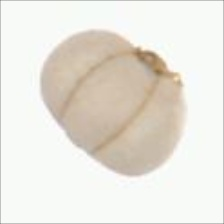L5: (61, 52, 156, 154), (125, 41, 186, 86)
L6: (37, 26, 190, 181)
